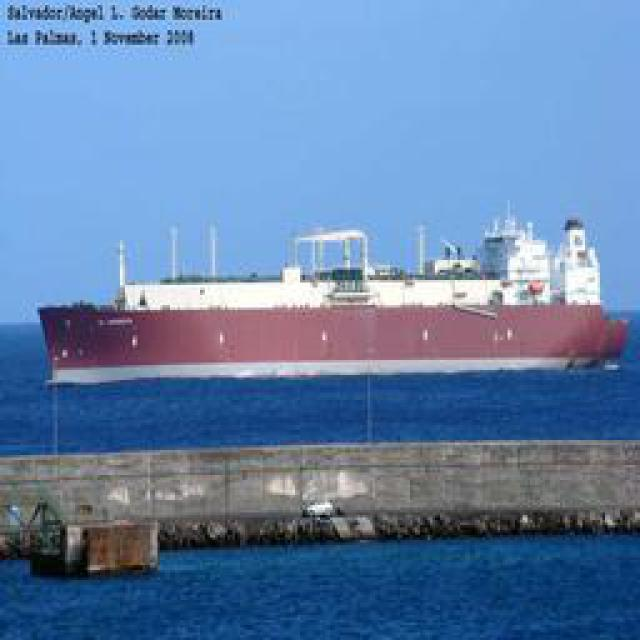Ship: (32, 218, 632, 446)
